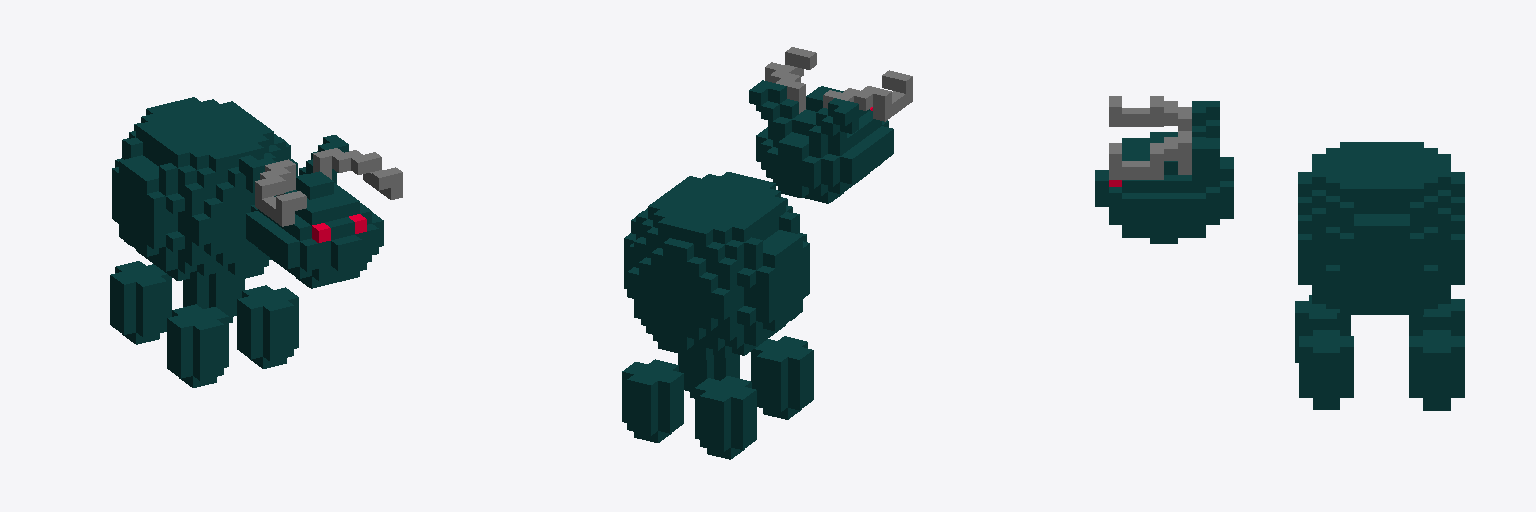
3 views of the same model, side by side, from view 1: azimuth 30°, elevation 25°; view 2: azimuth 150°, elevation 25°; view 3: azimuth 270°, elevation 25° (orthographic).
Visible parts, largest first — view 1: Model; view 2: Model; view 3: Model.
Boxes of the visible parts, <box> form: Model: <box>110,97,402,387</box>; Model: <box>622,47,912,459</box>; Model: <box>1095,96,1464,410</box>.
Size of the model in its own units: 12 by 20.84 by 26.63.
1 materials, 1 textured.